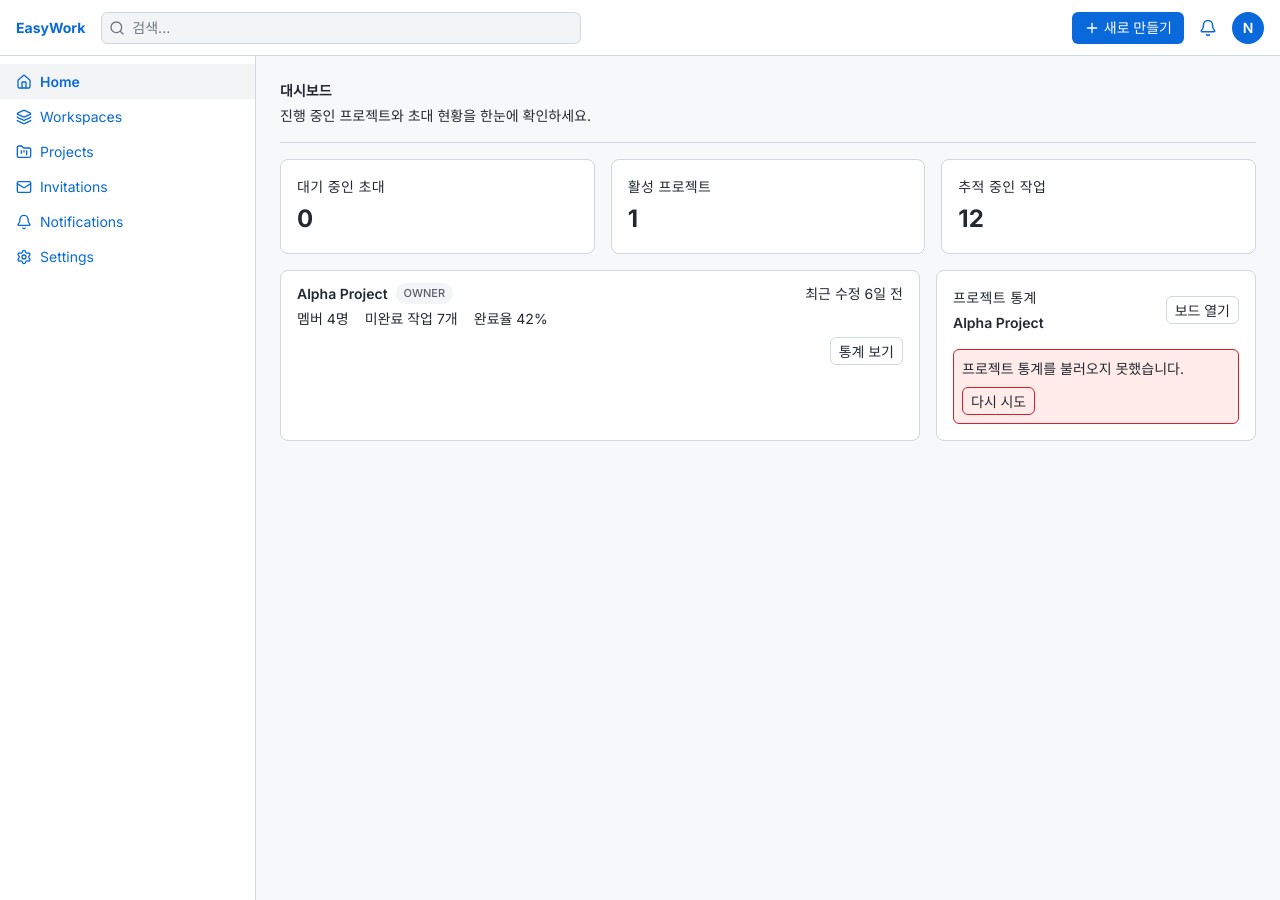
it: Dashboard route › retries project stats fetch when the selected project stats request fails
This screenshot has width=1280, height=900.
expect the text "프로젝트 통계를 불러오지 못했습니다." is shown: met, box x1=962 y1=360 x2=1184 y2=377
Step 1. Click the button "다시 시도" → {"x": 999, "y": 401}, box x1=962 y1=387 x2=1035 y2=415
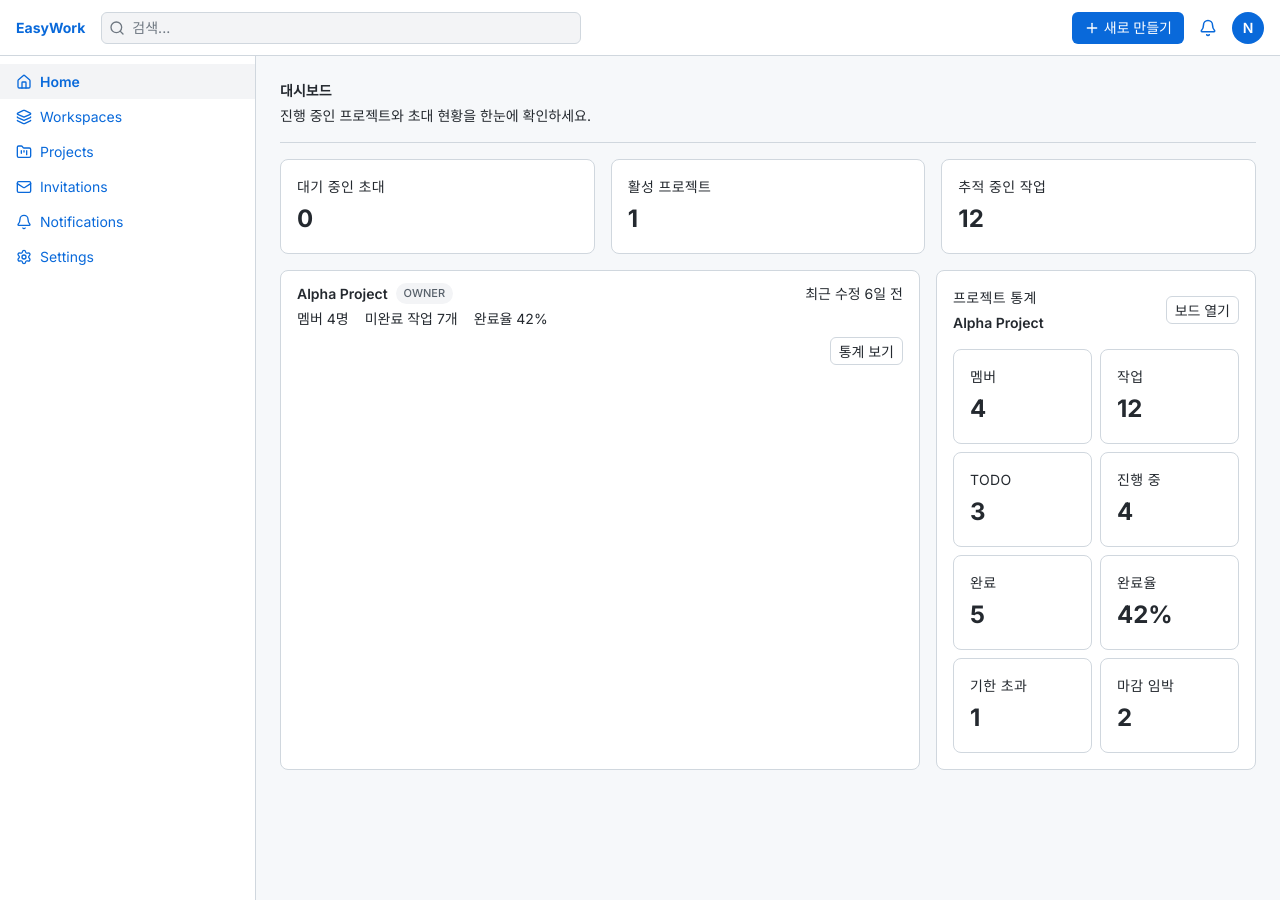
expect the text "42%" is shown: met, box x1=1117 y1=600 x2=1173 y2=629
